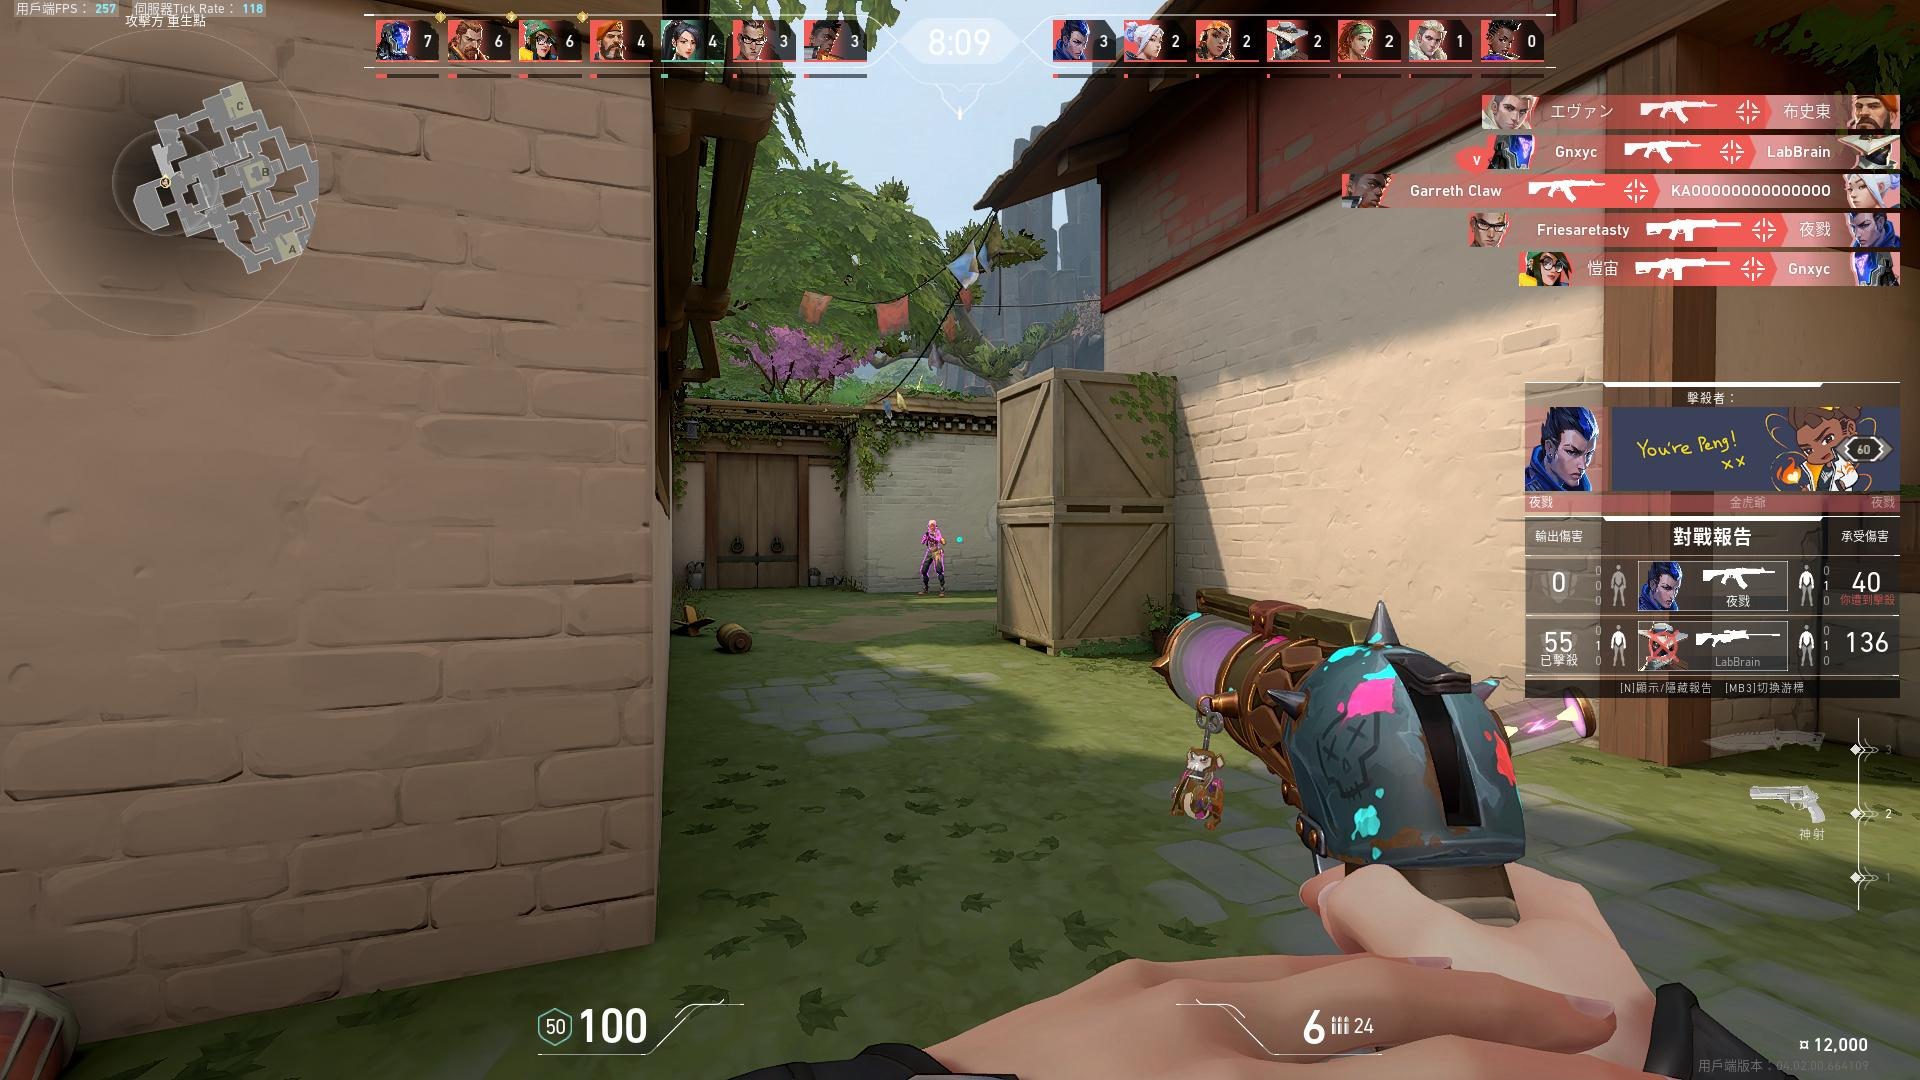enemyBody: (928, 533, 938, 549)
enemyHead: (930, 524, 935, 530)
